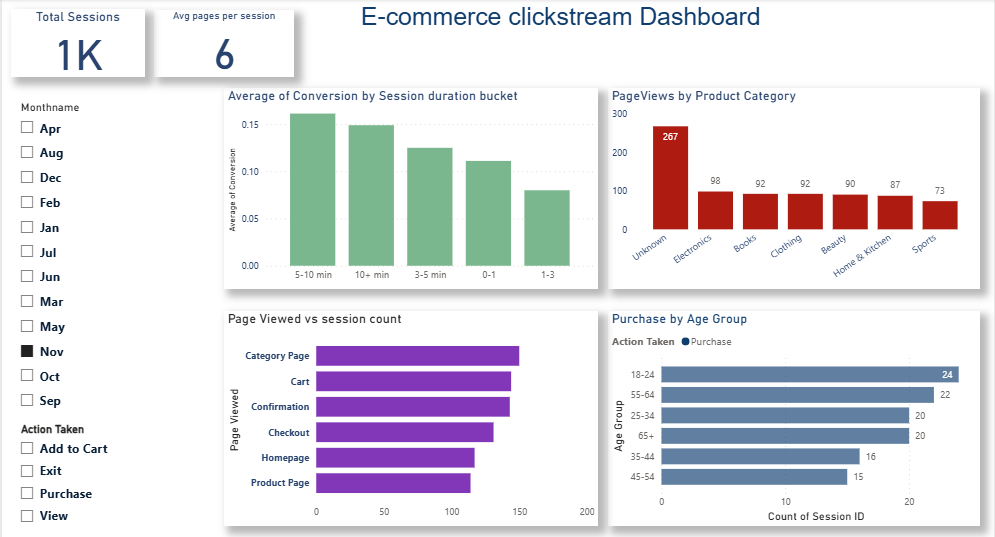

This screenshot's page, from the dashboard's own definition file:
{"tool":"powerbi","page":{"name":"User Behavior and engagement","canvas":[1280,720],"ordinal":0},"visuals":[{"type":"columnChart","title":"Session count by Gender","fields":{"Category":["ecommerce_clickstream (1).Gender"],"Y":["Count(ecommerce_clickstream (1).Session ID)"]},"box":[1002,20.6,278,214.7],"z":0},{"type":"barChart","title":"Session by Geography","fields":{"Category":["ecommerce_clickstream (1).Geography"],"Y":["Count(ecommerce_clickstream (1).Session ID)"]},"box":[0,501.9,468.4,218.1],"z":1000},{"type":"clusteredColumnChart","fields":{"Category":["ecommerce_clickstream (1).Session duration bucket"],"Y":["Avg(ecommerce_clickstream (1).Conversion )"]},"box":[184.5,20.6,412.9,203.9],"z":2000},{"type":"barChart","title":"Session distribution by duration bucket","fields":{"Category":["ecommerce_clickstream (1).Session duration bucket"],"Y":["CountNonNull(ecommerce_clickstream (1).Session ID)"]},"box":[939.4,250.3,340.6,231],"z":3000},{"type":"card","title":"Total Sessions","fields":{"Values":["CountNonNull(ecommerce_clickstream (1).Session ID)"]},"box":[0,20.6,162.6,87.7],"z":4000},{"type":"card","title":"Avg pages per session","fields":{"Values":["ecommerce_clickstream (1).Avg pages per session"]},"box":[0,125.2,162.6,99.4],"z":5000},{"type":"columnChart","fields":{"Category":["ecommerce_clickstream (1).Product Category"],"Y":["ecommerce_clickstream (1).PageViews"]},"box":[618,20.6,362,203.7],"z":6000},{"type":"barChart","title":"Page Viewed vs session count","fields":{"Category":["ecommerce_clickstream (1).Page Viewed"],"Y":["CountNonNull(ecommerce_clickstream (1).Session ID)"]},"box":[451.4,249.1,477.6,231.2],"z":7000},{"type":"columnChart","title":"Monthly user actions by Action Type","fields":{"Category":["ecommerce_clickstream (1).Start of Month.Variation.Date Hierarchy.Month"],"Series":["ecommerce_clickstream (1).Action Taken"],"Y":["Count(ecommerce_clickstream (1).Session ID)"]},"box":[485.8,502.4,755.6,217.5],"z":8000},{"type":"barChart","title":"Purchase by Age Group","fields":{"Category":["ecommerce_clickstream (1).Age Group"],"Y":["CountNonNull(ecommerce_clickstream (1).Session ID)"],"Series":["ecommerce_clickstream (1).Action Taken"]},"box":[0,250.3,436.7,230.1],"z":9000}]}

Visuals, with their boxes on the page's 1280x720 design canvas (x1, y1, x2, y2). These are canvas units, not pixel positions in the 995x537 screenshot, which may show the page scaled, cropped or inside an application window:
"Session count by Gender" columnChart: [1002,21,1280,235]
"Session by Geography" barChart: [0,502,468,720]
clusteredColumnChart - ecommerce_clickstream (1).Session duration bucket x Avg(ecommerce_clickstream (1).Conversion ): [184,21,597,224]
"Session distribution by duration bucket" barChart: [939,250,1280,481]
"Total Sessions" card: [0,21,163,108]
"Avg pages per session" card: [0,125,163,225]
columnChart - ecommerce_clickstream (1).Product Category x ecommerce_clickstream (1).PageViews: [618,21,980,224]
"Page Viewed vs session count" barChart: [451,249,929,480]
"Monthly user actions by Action Type" columnChart: [486,502,1241,720]
"Purchase by Age Group" barChart: [0,250,437,480]
